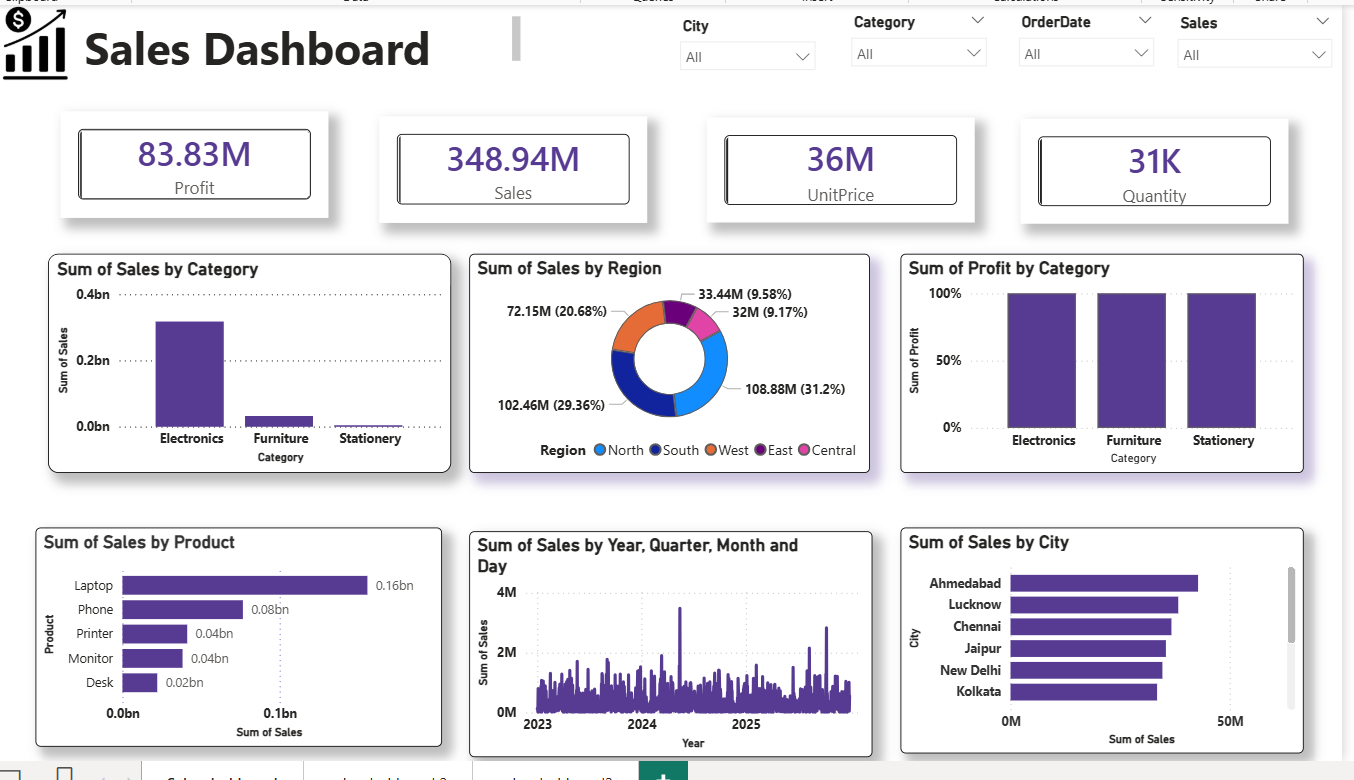

Layout of this report page (visuals, bound fields, positions):
{"tool":"powerbi","page":{"name":"Sales dashboard","canvas":[1280,720],"ordinal":0},"visuals":[{"type":"textbox","box":[0,5.5,502.2,59],"z":0},{"type":"slicer","fields":{"Values":["Sales_Data (1) xlsx - Sales_Data.Sales"]},"box":[1112.9,4.1,167.4,60.4],"z":1000},{"type":"clusteredColumnChart","fields":{"Category":["Sales_Data (1) xlsx - Sales_Data.Category"],"Y":["Sum(Sales_Data (1) xlsx - Sales_Data.Sales)"]},"box":[48,237.4,384.2,208.6],"z":2000},{"type":"donutChart","fields":{"Y":["Sum(Sales_Data (1) xlsx - Sales_Data.Sales)"],"Category":["Sales_Data (1) xlsx - Sales_Data.Region"]},"box":[448.7,237.4,381.5,208.6],"z":3000},{"type":"clusteredBarChart","fields":{"Y":["Sum(Sales_Data (1) xlsx - Sales_Data.Sales)"],"Category":["Sales_Data (1) xlsx - Sales_Data.City"]},"box":[859,498.1,384.2,215.4],"z":4000},{"type":"hundredPercentStackedColumnChart","fields":{"Y":["Sum(Sales_Data (1) xlsx - Sales_Data.Profit)"],"Category":["Sales_Data (1) xlsx - Sales_Data.Category"]},"box":[859,237.4,384.2,208.6],"z":5000},{"type":"lineChart","fields":{"Y":["Sum(Sales_Data (1) xlsx - Sales_Data.Sales)"],"Category":["Sales_Data (1) xlsx - Sales_Data.OrderDate.Variation.Date Hierarchy.Year","Sales_Data (1) xlsx - Sales_Data.OrderDate.Variation.Date Hierarchy.Quarter","Sales_Data (1) xlsx - Sales_Data.OrderDate.Variation.Date Hierarchy.Month","Sales_Data (1) xlsx - Sales_Data.OrderDate.Variation.Date Hierarchy.Day"]},"box":[448.7,500.9,384.2,215.4],"z":6000},{"type":"clusteredBarChart","fields":{"Y":["Sum(Sales_Data (1) xlsx - Sales_Data.Sales)"],"Category":["Sales_Data (1) xlsx - Sales_Data.Product"]},"box":[35.7,498.1,387,208.6],"z":7000},{"type":"slicer","fields":{"Values":["Sales_Data (1) xlsx - Sales_Data.Category"]},"box":[802.7,2.7,149.6,59],"z":8000},{"type":"slicer","fields":{"Values":["Sales_Data (1) xlsx - Sales_Data.City"]},"box":[639.5,5.5,149.6,59],"z":9000},{"type":"slicer","fields":{"Values":["Sales_Data (1) xlsx - Sales_Data.OrderDate"]},"box":[961.9,2.7,149.6,70],"z":10000},{"type":"cardVisual","fields":{"Data":["Sum(Sales_Data (1) xlsx - Sales_Data.Sales)"]},"box":[363.6,105.7,255.2,101.5],"z":11000},{"type":"cardVisual","fields":{"Data":["Sum(Sales_Data (1) xlsx - Sales_Data.UnitPrice)"]},"box":[675.1,107,255.2,100.2],"z":12000},{"type":"cardVisual","fields":{"Data":["Sum(Sales_Data (1) xlsx - Sales_Data.Profit)"]},"box":[59,101.5,255.2,101.5],"z":13000},{"type":"image","box":[0,0,71.4,72.7],"z":14000},{"type":"cardVisual","fields":{"Data":["Sum(Sales_Data (1) xlsx - Sales_Data.Quantity)"]},"box":[974.3,108.4,255.2,100.2],"z":15000}]}

Visuals, with their boxes on the page's 1280x720 design canvas (x1, y1, x2, y2). These are canvas units, not pixel positions in the 1354x780 screenshot, which may show the page scaled, cropped or inside an application window:
textbox: bbox=[0, 6, 502, 64]
slicer - Sales_Data (1) xlsx - Sales_Data.Sales: bbox=[1113, 4, 1280, 64]
clusteredColumnChart - Sales_Data (1) xlsx - Sales_Data.Category x Sum(Sales_Data (1) xlsx - Sales_Data.Sales): bbox=[48, 237, 432, 446]
donutChart - Sum(Sales_Data (1) xlsx - Sales_Data.Sales) x Sales_Data (1) xlsx - Sales_Data.Region: bbox=[449, 237, 830, 446]
clusteredBarChart - Sum(Sales_Data (1) xlsx - Sales_Data.Sales) x Sales_Data (1) xlsx - Sales_Data.City: bbox=[859, 498, 1243, 714]
hundredPercentStackedColumnChart - Sum(Sales_Data (1) xlsx - Sales_Data.Profit) x Sales_Data (1) xlsx - Sales_Data.Category: bbox=[859, 237, 1243, 446]
lineChart - Sum(Sales_Data (1) xlsx - Sales_Data.Sales) x Sales_Data (1) xlsx - Sales_Data.OrderDate.Variation.Date Hierarchy.Year: bbox=[449, 501, 833, 716]
clusteredBarChart - Sum(Sales_Data (1) xlsx - Sales_Data.Sales) x Sales_Data (1) xlsx - Sales_Data.Product: bbox=[36, 498, 423, 707]
slicer - Sales_Data (1) xlsx - Sales_Data.Category: bbox=[803, 3, 952, 62]
slicer - Sales_Data (1) xlsx - Sales_Data.City: bbox=[640, 6, 789, 64]
slicer - Sales_Data (1) xlsx - Sales_Data.OrderDate: bbox=[962, 3, 1112, 73]
cardVisual - Sum(Sales_Data (1) xlsx - Sales_Data.Sales): bbox=[364, 106, 619, 207]
cardVisual - Sum(Sales_Data (1) xlsx - Sales_Data.UnitPrice): bbox=[675, 107, 930, 207]
cardVisual - Sum(Sales_Data (1) xlsx - Sales_Data.Profit): bbox=[59, 102, 314, 203]
image: bbox=[0, 0, 71, 73]
cardVisual - Sum(Sales_Data (1) xlsx - Sales_Data.Quantity): bbox=[974, 108, 1230, 209]
